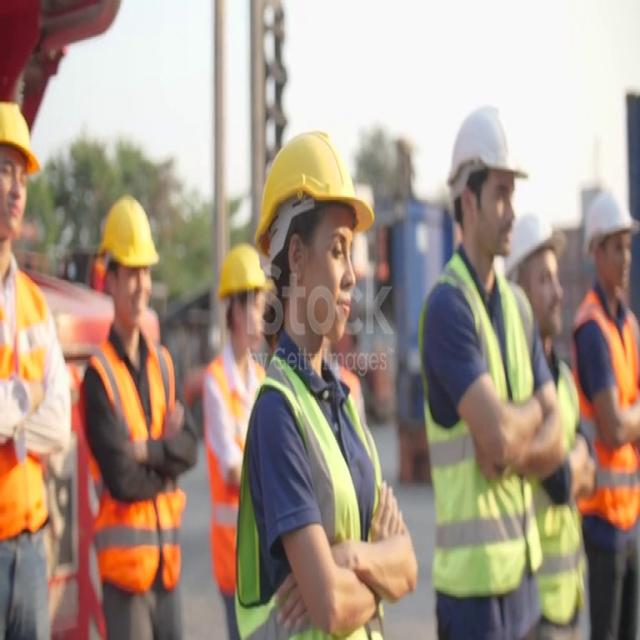capacete: (243, 110, 379, 232), (437, 89, 534, 182), (99, 177, 163, 283), (567, 167, 640, 253), (204, 213, 269, 302), (494, 196, 559, 268), (0, 66, 34, 179)
